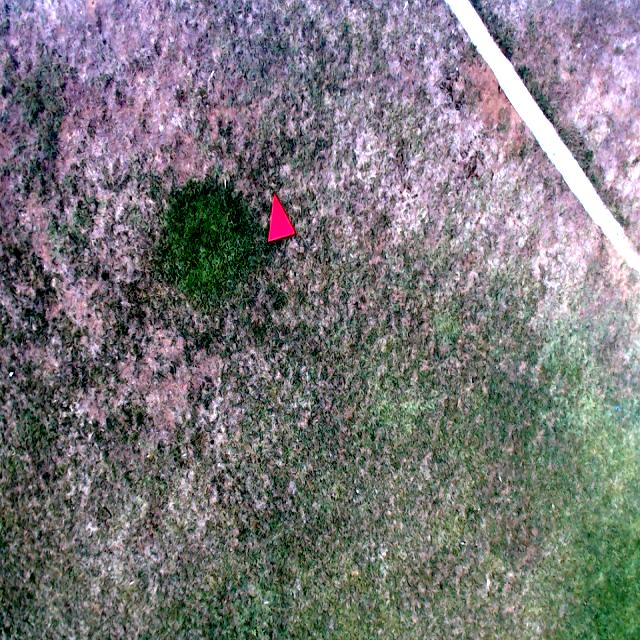red_triangle: (267, 194, 295, 242)
